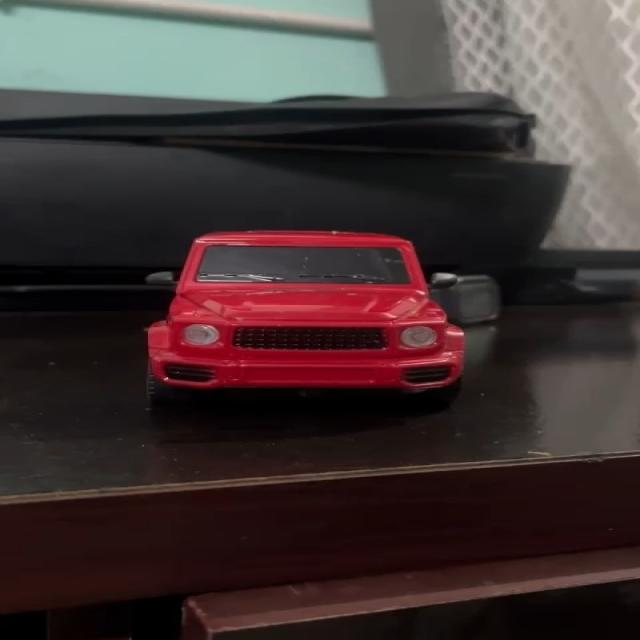light_vehicle: (141, 226, 461, 417)
